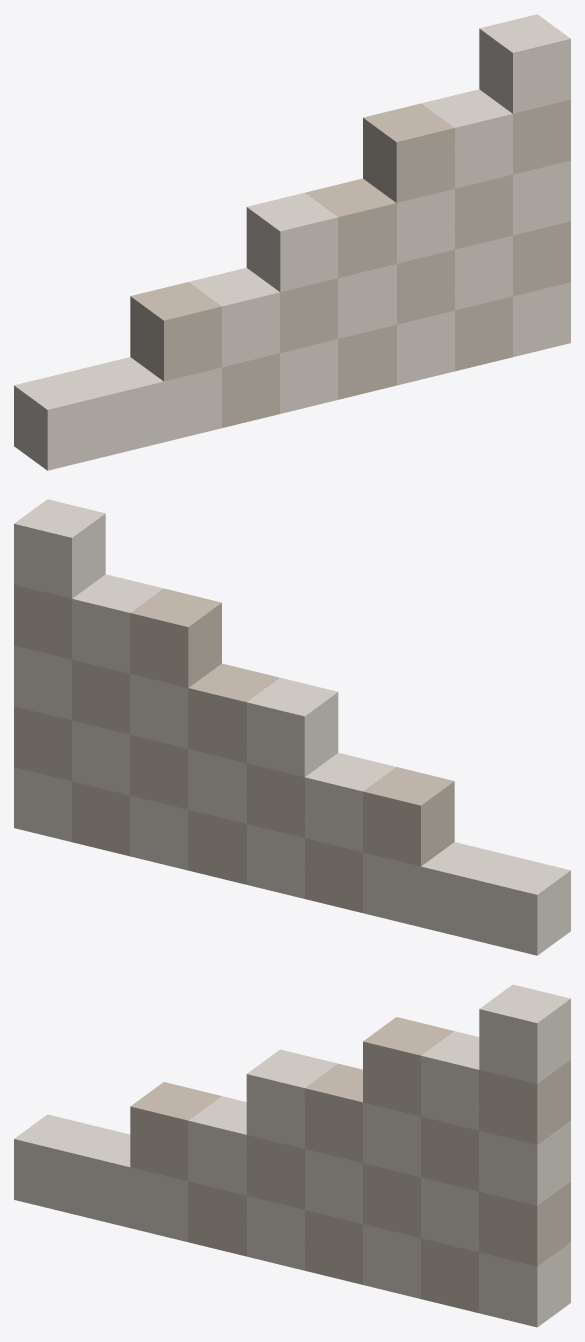
File: hammock_slope.fbx
3 views of the same model, one above another, from view 1: azimuth 30°, elevation 25°; view 2: azimuth 150°, elevation 25°; view 3: azimuth 330°, elevation 25° (orthographic).
Visible parts, largest first — view 1: Matrix_21; view 2: Matrix_21; view 3: Matrix_21.
Part boxes in pixels (x1=…): Matrix_21: x1=14, y1=14, x2=570, y2=470; Matrix_21: x1=14, y1=499, x2=570, y2=955; Matrix_21: x1=14, y1=984, x2=570, y2=1327.
Size of the model in its own units: 9 by 5 by 1.
